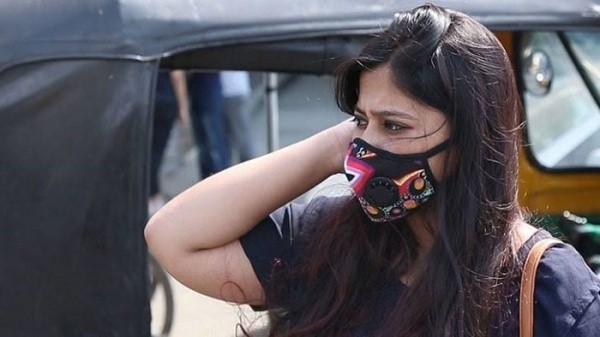face_with_mask: (333, 57, 473, 239)
